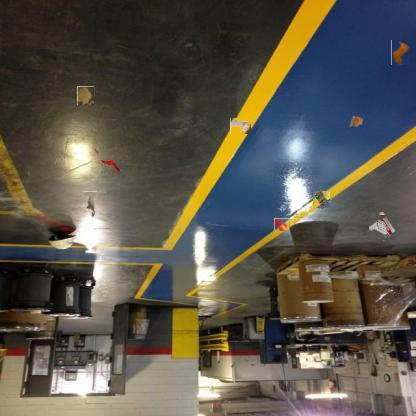dirty: (370, 213, 396, 239), (391, 40, 410, 66), (83, 191, 97, 218), (102, 158, 124, 174), (230, 118, 251, 134), (312, 190, 330, 208), (348, 114, 364, 128)
liquid: (76, 86, 94, 104), (274, 218, 289, 231)
